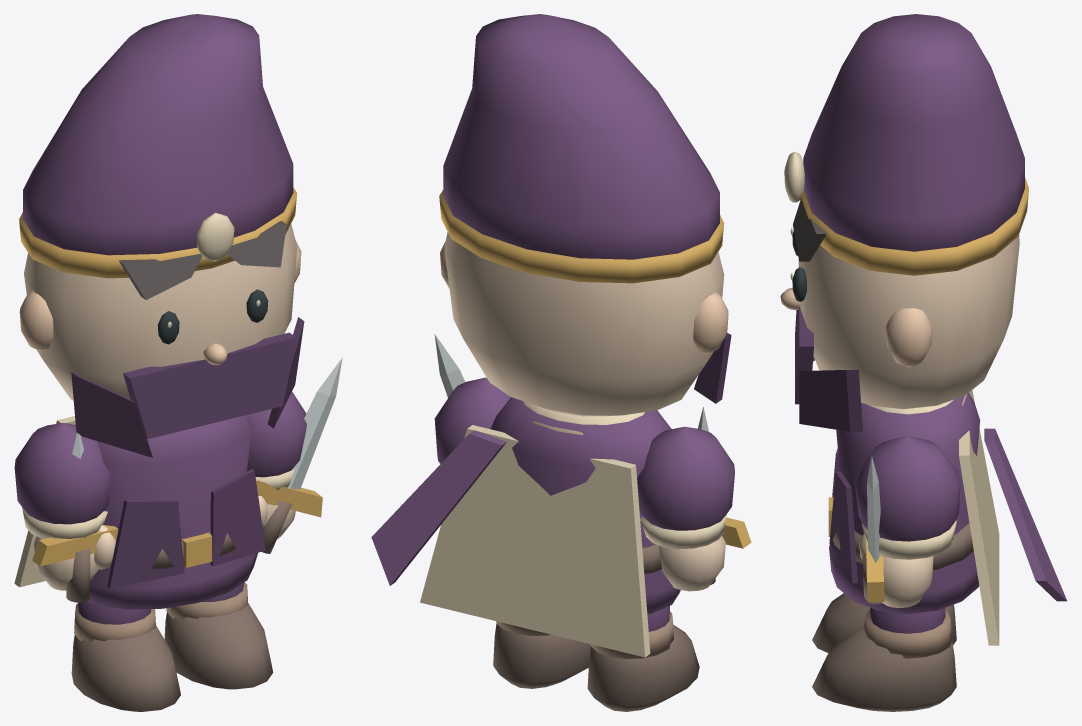
File: assassin.glb
3 renders of one model, left to right at view 1: azimuth 30°, elevation 25°; view 2: azimuth 150°, elevation 25°; view 3: azimuth 270°, elevation 25°, orthographic. The views are drawn at different scales.
Parts seen in each view (by area): view 1: Folded Persian tiara, Soft cheek head, Short folded tunic, Soft face mask, Puff sleeve, Round leather boot, Round leather boot.001, Coat fold, Tiara gold band, Hood cheek cowl, Coat fold.001, Puff sleeve.001 (+21 smaller); view 2: Folded Persian tiara, Persian shoulder drape, Soft cheek head, Short folded tunic, Puff sleeve, Tiara gold band, Long scarf tail, Round leather boot, Round leather boot.001, Puff sleeve.001, Little mitten, Ear (+6 smaller); view 3: Folded Persian tiara, Soft cheek head, Short folded tunic, Puff sleeve.001, Round leather boot.001, Tiara gold band, Persian shoulder drape, Hood cheek cowl R, Long scarf tail, Ear.001, Little mitten.001, Boot turn cuff.001 (+10 smaller).
Boxes of the visible parts, x1,y1,x2,y2 form: Folded Persian tiara: (23,14,293,255); Soft cheek head: (24,224,297,400); Short folded tunic: (87,414,257,609); Soft face mask: (123,332,296,438); Puff sleeve: (14,423,110,524); Round leather boot: (71,625,180,711); Round leather boot.001: (164,602,273,689); Coat fold: (107,499,184,588); Tiara gold band: (19,187,297,278); Hood cheek cowl: (71,372,152,457); Coat fold.001: (210,469,265,566); Puff sleeve.001: (247,391,306,477); Folded Persian tiara: (443,14,719,259); Persian shoulder drape: (420,425,650,657); Soft cheek head: (444,232,724,416); Short folded tunic: (490,397,680,614); Puff sleeve: (637,426,734,530); Tiara gold band: (439,190,724,283); Long scarf tail: (371,430,506,585); Round leather boot: (587,624,699,711); Round leather boot.001: (493,623,590,688); Puff sleeve.001: (434,377,510,463); Little mitten: (659,536,725,591); Ear: (693,292,728,353); Folded Persian tiara: (803,14,1024,251); Soft cheek head: (798,235,1019,409); Short folded tunic: (829,393,980,613); Puff sleeve.001: (854,436,960,541); Round leather boot.001: (812,626,956,711); Tiara gold band: (800,177,1028,275); Persian shoulder drape: (959,390,999,645); Hood cheek cowl R: (799,370,862,431); Long scarf tail: (984,428,1066,601); Ear.001: (885,308,932,367); Little mitten.001: (882,556,933,607); Boot turn cuff.001: (864,610,952,658).
Size of the model in its own units: 0.8627 by 1.72 by 0.674.
